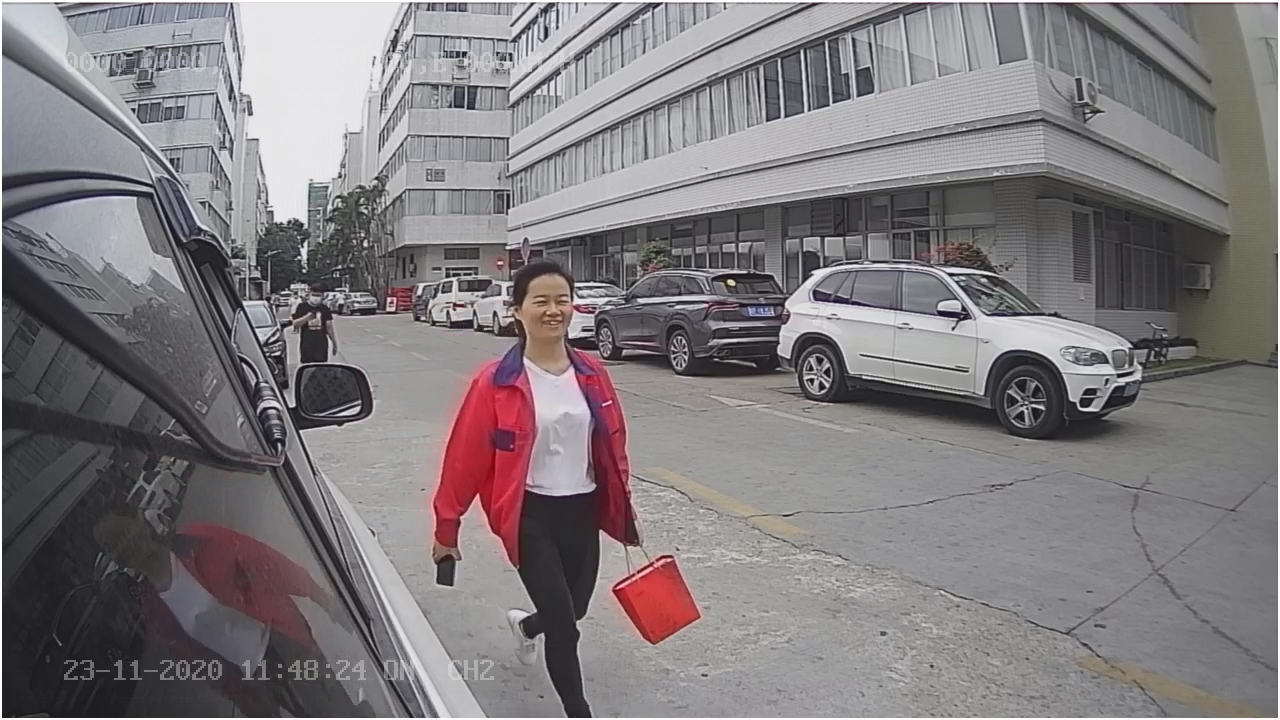person: (423, 263, 652, 565)
